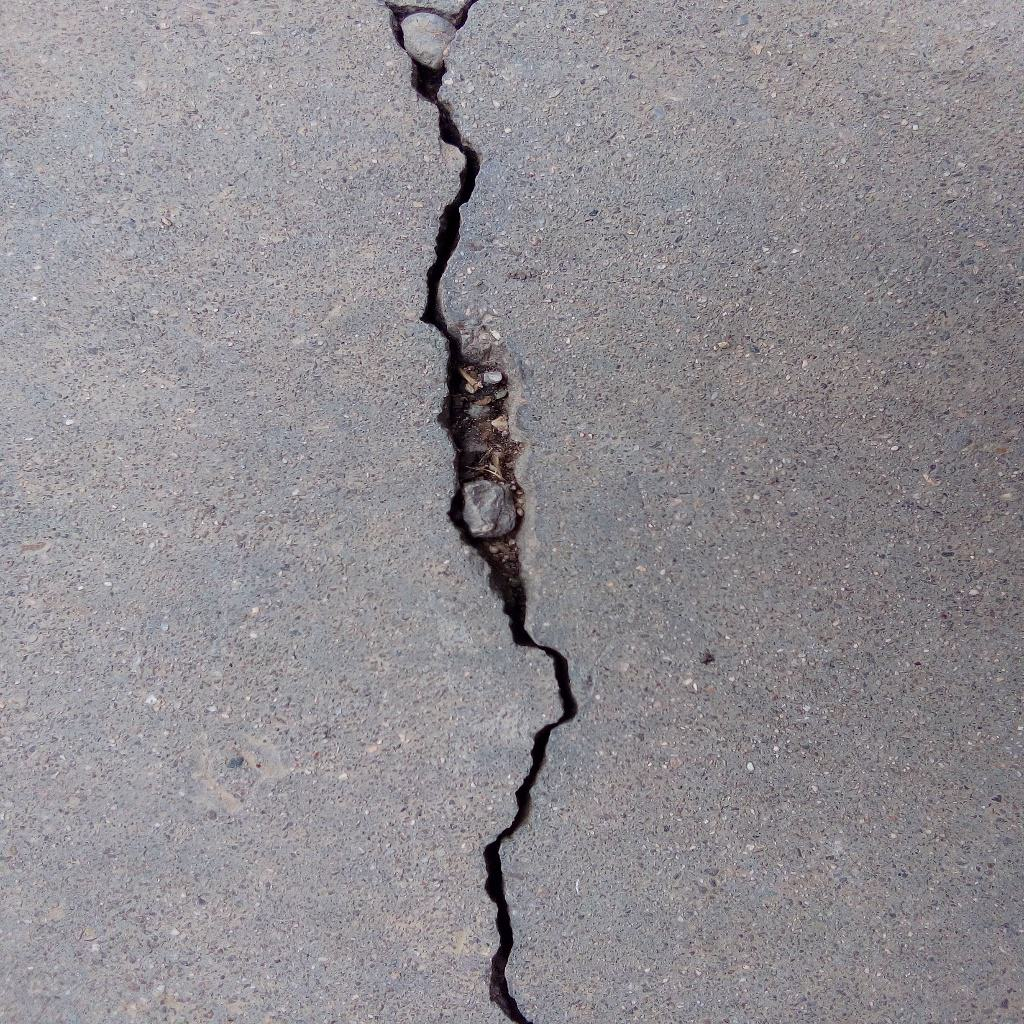Crack: (379, 1, 582, 1024)
